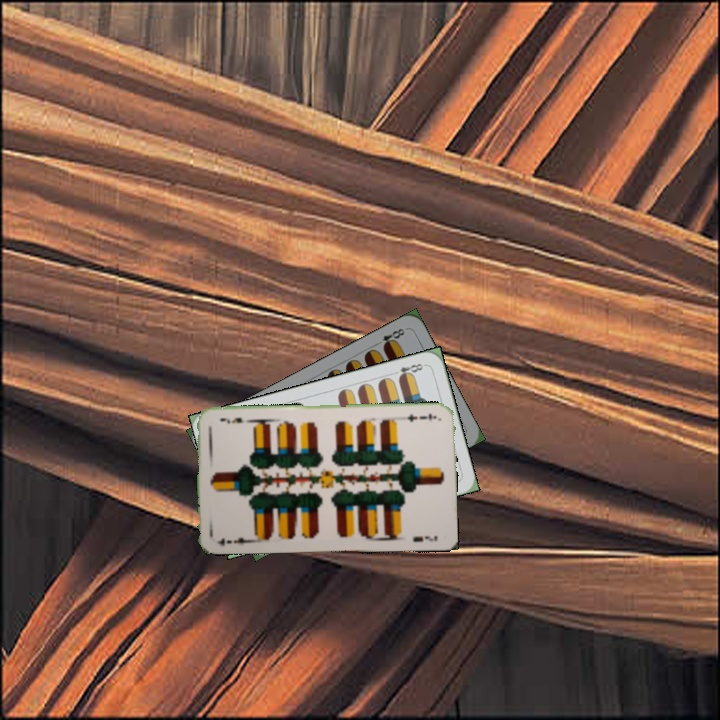E7: (212, 533, 253, 548), (403, 409, 439, 424)
E8: (371, 324, 407, 351), (388, 359, 428, 382)
